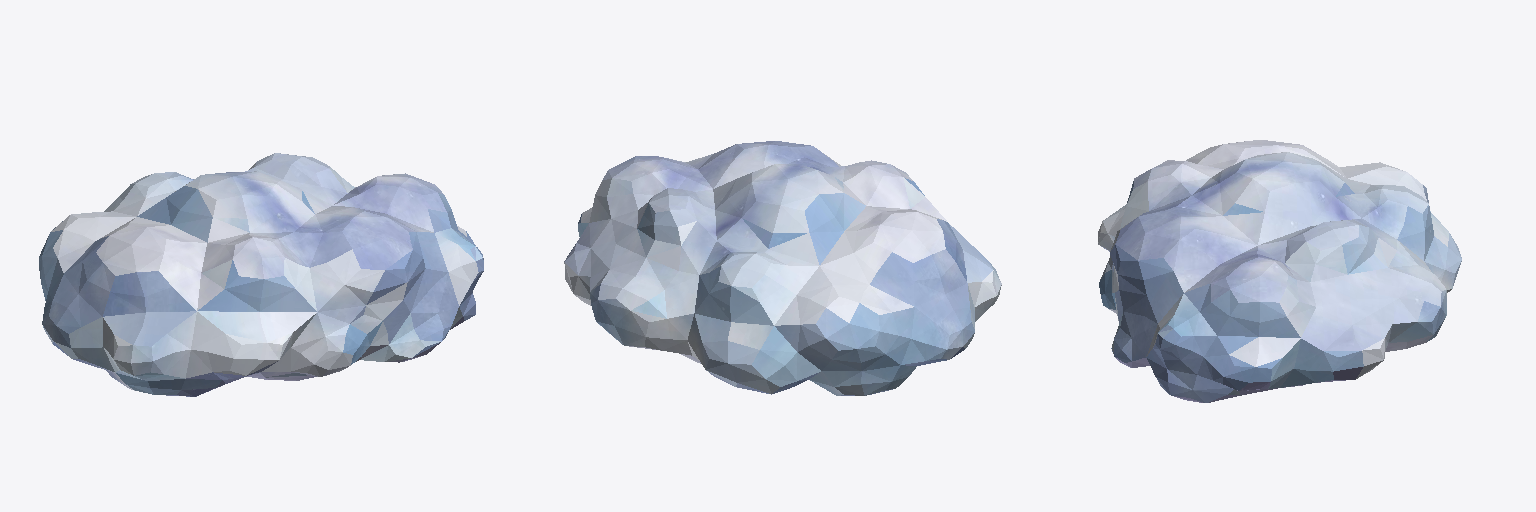
3 views of the same model, side by side, from view 1: azimuth 30°, elevation 25°; view 2: azimuth 150°, elevation 25°; view 3: azimuth 270°, elevation 25° (orthographic).
Visible parts, largest first — view 1: cloud; view 2: cloud; view 3: cloud.
Boxes of the visible parts, x1,y1,x2,y2 form: cloud: [39, 153, 483, 396]; cloud: [564, 141, 1001, 395]; cloud: [1098, 140, 1461, 402].
Size of the model in its own units: 12.64 by 5.08 by 10.03.
1 materials, 1 textured.